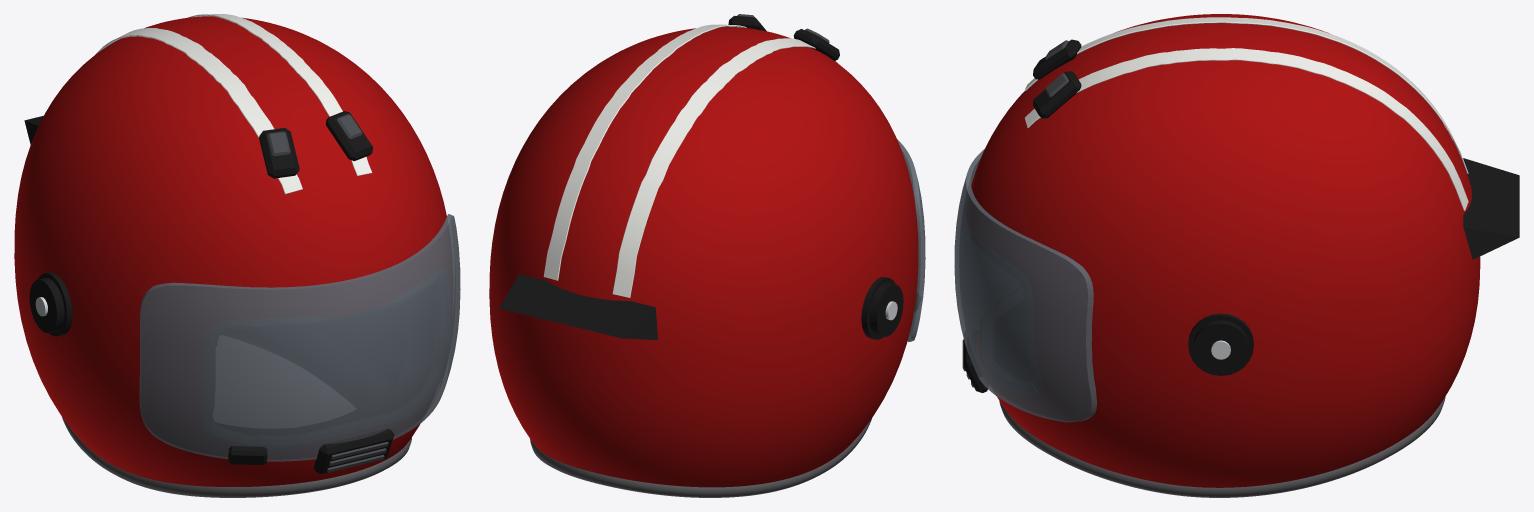
File: capacete_moto.glb
3 views of the same model, side by side, from view 1: azimuth 30°, elevation 25°; view 2: azimuth 150°, elevation 25°; view 3: azimuth 270°, elevation 25° (orthographic). The views are drawn at different scales.
Parts seen in each view (by area): view 1: capacete_moto_pc_vermelho, capacete_moto_viseira_viseira_fume, capacete_moto_adesivo_branco, capacete_moto_pc_preto, capacete_moto_borracha, capacete_moto_viseira_pc_preto, capacete_moto_pc_grafite; view 2: capacete_moto_pc_vermelho, capacete_moto_adesivo_branco, capacete_moto_pc_preto, capacete_moto_borracha, capacete_moto_viseira_viseira_fume, capacete_moto_viseira_pc_preto; view 3: capacete_moto_pc_vermelho, capacete_moto_viseira_viseira_fume, capacete_moto_adesivo_branco, capacete_moto_pc_preto, capacete_moto_borracha, capacete_moto_viseira_pc_preto.
Part boxes in pixels (x1,y1,x2,y2): capacete_moto_pc_vermelho: (14, 16, 446, 486); capacete_moto_viseira_viseira_fume: (139, 214, 460, 461); capacete_moto_adesivo_branco: (95, 14, 372, 194); capacete_moto_pc_preto: (24, 111, 394, 473); capacete_moto_borracha: (62, 417, 411, 497); capacete_moto_viseira_pc_preto: (29, 278, 267, 465); capacete_moto_pc_grafite: (267, 114, 388, 472); capacete_moto_pc_vermelho: (489, 26, 918, 487); capacete_moto_adesivo_branco: (543, 24, 838, 297); capacete_moto_pc_preto: (499, 15, 895, 339); capacete_moto_borracha: (530, 418, 871, 497); capacete_moto_viseira_viseira_fume: (897, 139, 925, 341); capacete_moto_viseira_pc_preto: (869, 282, 903, 336); capacete_moto_pc_vermelho: (971, 14, 1480, 487); capacete_moto_viseira_viseira_fume: (954, 149, 1096, 422); capacete_moto_adesivo_branco: (1024, 17, 1468, 210); capacete_moto_pc_preto: (963, 39, 1519, 392); capacete_moto_borracha: (999, 396, 1445, 497); capacete_moto_viseira_pc_preto: (1193, 320, 1248, 374).
Bounding box in the file's own units: 0.2773 × 0.2676 × 0.3444.
